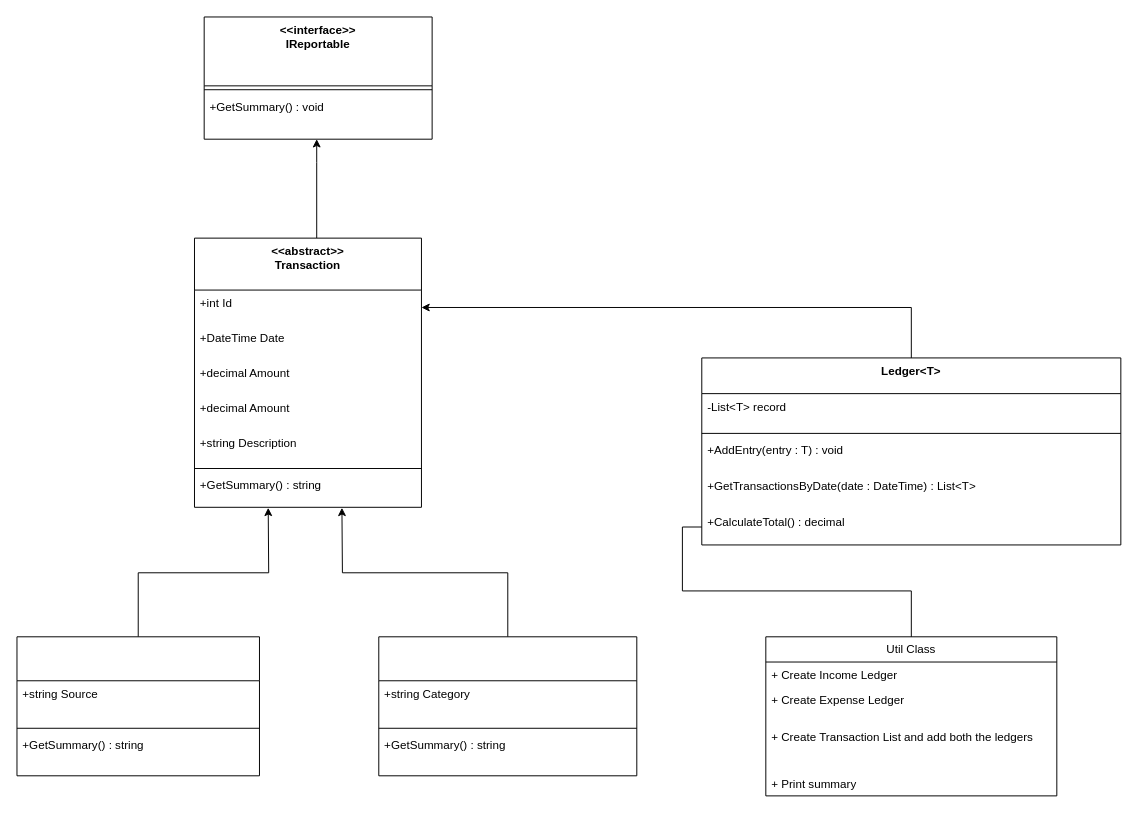
This 1138x816 diagram has some shape labels left out. Here are the shapes that lost their labels. From the top down, the box of each, then its label:
(16, 636, 259, 776): IncomeTransaction
(378, 636, 637, 776): ExpenseTransaction
